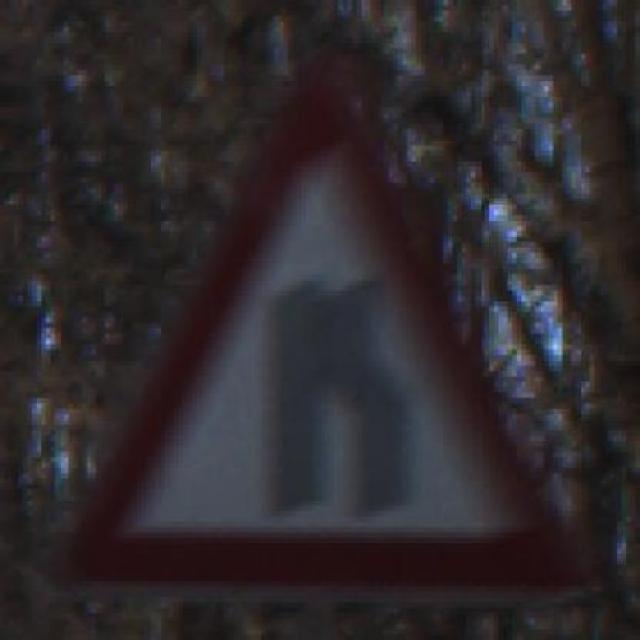-Road narrows on right: (59, 60, 581, 602)
